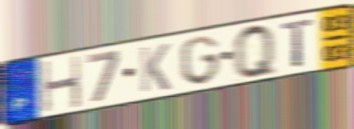7: (85, 48, 123, 106)
G: (178, 33, 222, 87)
H: (40, 53, 83, 115)
K: (138, 42, 172, 95)
Q: (231, 22, 279, 81)
T: (280, 16, 316, 69)
